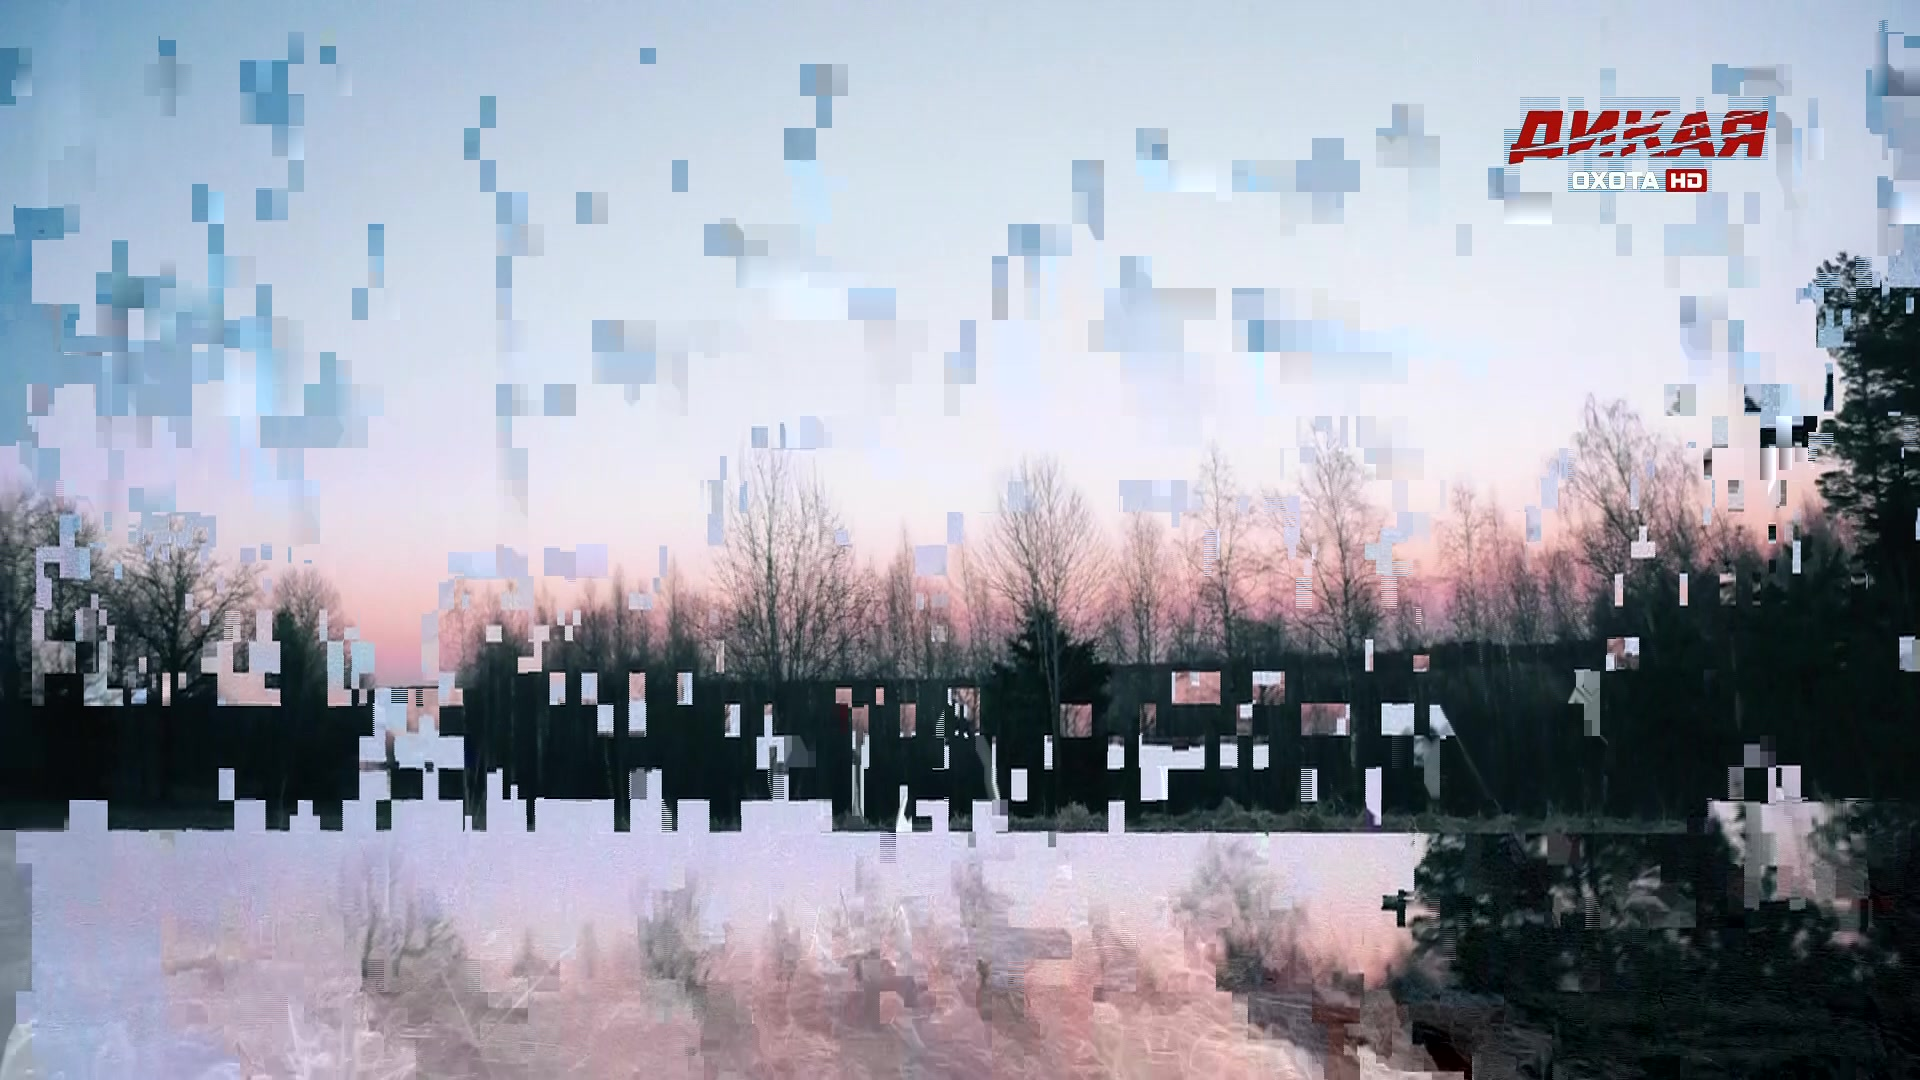Dikaya_Ohota_HD: (1506, 105, 1771, 195)
